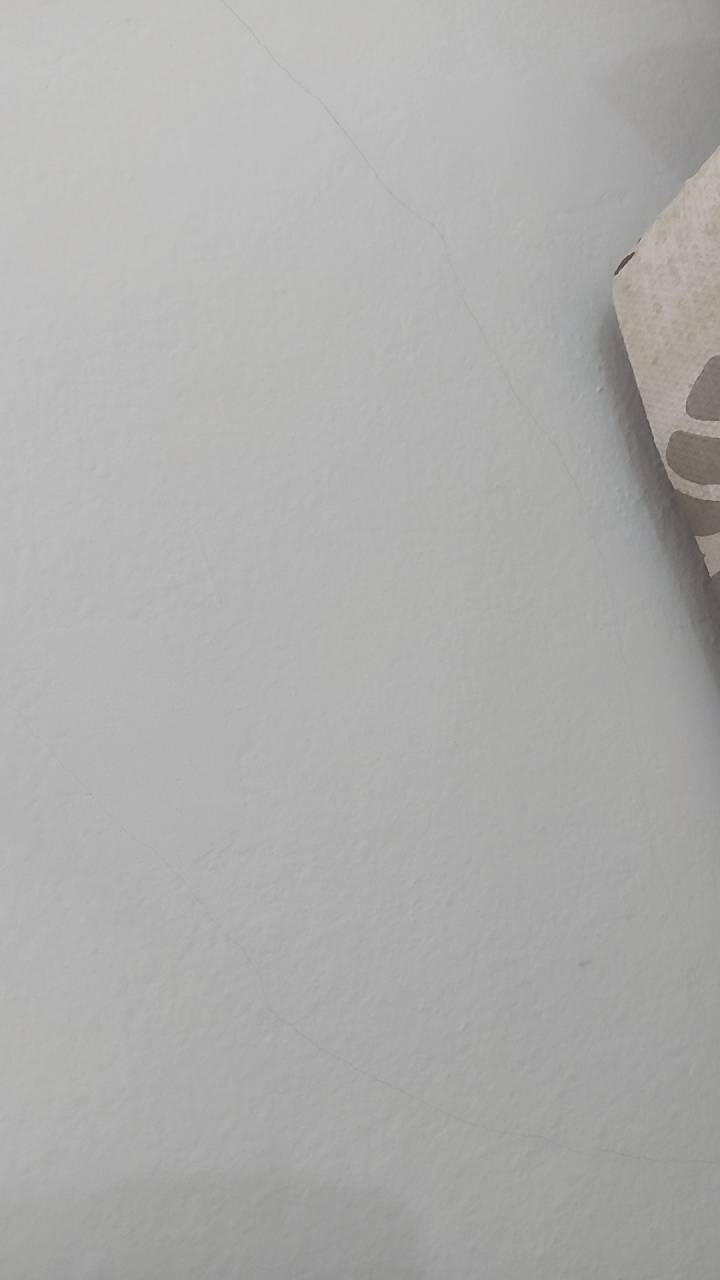Low: (214, 1, 684, 1030)
